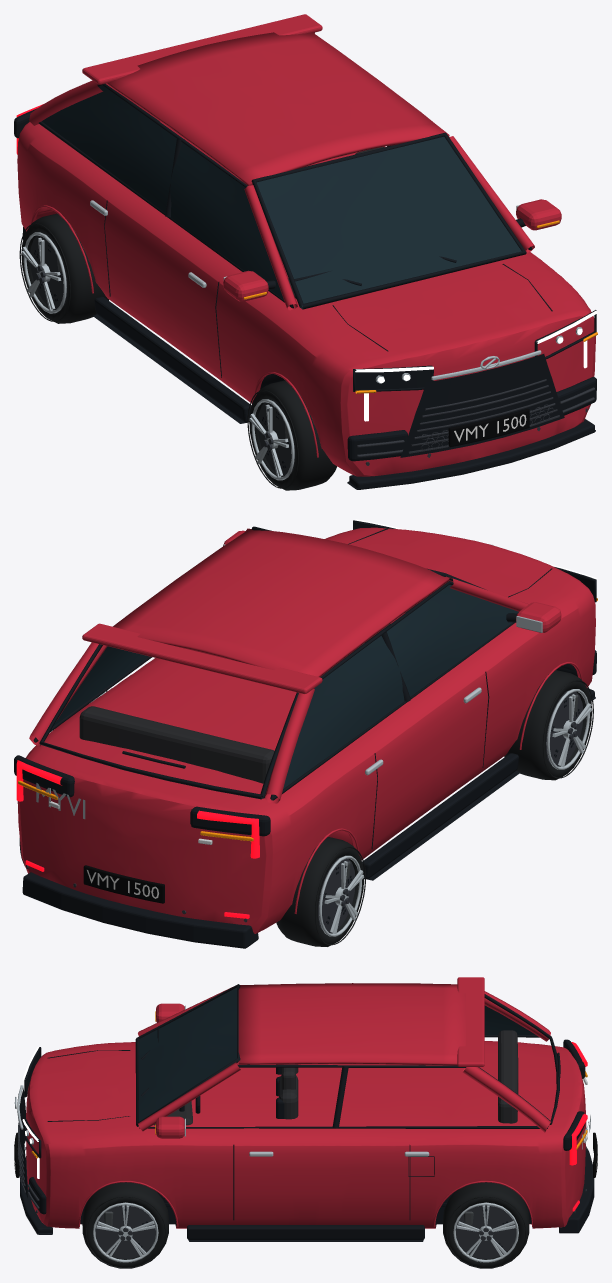
Rendered from myvi.glb.
3 renders of one model, top to bottom at view 1: azimuth 30°, elevation 25°; view 2: azimuth 150°, elevation 25°; view 3: azimuth 270°, elevation 25°, orthographic. The views are drawn at different scales.
Visible parts, largest first — view 1: chassis.001__Automotive clearcoat, chassis.001__Solar glass, chassis.001__Satin black trim, wheel_FL.001__Tyre rubber, wheel_RL.001__Tyre rubber, chassis.001__Graphite alloy, chassis.001__Black registration plate, wheel_RL.001__Machined aluminium, wheel_FL.001__Machined aluminium, wheel_RL.001__Graphite alloy, wheel_FL.001__Graphite alloy, chassis.001__Machined aluminium (+1 smaller); view 2: chassis.001__Automotive clearcoat, chassis.001__Satin black trim, chassis.001__Solar glass, chassis.001__Charcoal upholstery, wheel_RL.001__Tyre rubber, wheel_FL.001__Tyre rubber, chassis.001__Red LED optics, chassis.001__Black registration plate, wheel_FL.001__Machined aluminium, wheel_RL.001__Machined aluminium, wheel_RL.001__Graphite alloy, wheel_FL.001__Graphite alloy (+1 smaller); view 3: chassis.001__Automotive clearcoat, chassis.001__Satin black trim, chassis.001__Solar glass, wheel_FR.001__Tyre rubber, wheel_RR.001__Tyre rubber, chassis.001__Charcoal upholstery, wheel_FR.001__Graphite alloy, wheel_RR.001__Graphite alloy, wheel_FR.001__Machined aluminium, wheel_RR.001__Machined aluminium, chassis.001__Machined aluminium, chassis.001__Red LED optics (+1 smaller).
Part boxes in pixels (<box>): chassis.001__Automotive clearcoat: <box>17,14,595,476</box>; chassis.001__Solar glass: <box>42,86,521,306</box>; chassis.001__Satin black trim: <box>14,83,596,489</box>; wheel_FL.001__Tyre rubber: <box>247,380,336,490</box>; wheel_RL.001__Tyre rubber: <box>19,213,108,323</box>; chassis.001__Graphite alloy: <box>356,379,594,465</box>; chassis.001__Black registration plate: <box>448,408,529,447</box>; wheel_RL.001__Machined aluminium: <box>21,232,66,313</box>; wheel_FL.001__Machined aluminium: <box>249,399,294,480</box>; wheel_RL.001__Graphite alloy: <box>30,234,67,309</box>; wheel_FL.001__Graphite alloy: <box>258,401,295,476</box>; chassis.001__Machined aluminium: <box>90,200,582,383</box>; chassis.001__Automotive clearcoat: <box>17,527,595,933</box>; chassis.001__Satin black trim: <box>14,520,596,948</box>; chassis.001__Solar glass: <box>53,584,518,798</box>; chassis.001__Charcoal upholstery: <box>79,609,409,783</box>; wheel_RL.001__Tyre rubber: <box>276,837,365,946</box>; wheel_FL.001__Tyre rubber: <box>504,670,593,780</box>; chassis.001__Red LED optics: <box>16,760,259,918</box>; chassis.001__Black registration plate: <box>83,865,164,903</box>; wheel_FL.001__Machined aluminium: <box>546,689,591,769</box>; wheel_RL.001__Machined aluminium: <box>319,855,364,936</box>; wheel_RL.001__Graphite alloy: <box>318,857,355,933</box>; wheel_FL.001__Graphite alloy: <box>546,690,582,766</box>; chassis.001__Automotive clearcoat: <box>26,977,586,1228</box>; chassis.001__Satin black trim: <box>19,984,594,1241</box>; chassis.001__Solar glass: <box>138,987,535,1121</box>; wheel_FR.001__Tyre rubber: <box>82,1182,169,1268</box>; wheel_RR.001__Tyre rubber: <box>442,1182,529,1268</box>; chassis.001__Charcoal upholstery: <box>154,1030,518,1125</box>; wheel_FR.001__Graphite alloy: <box>95,1205,155,1258</box>; wheel_RR.001__Graphite alloy: <box>455,1205,516,1258</box>; wheel_FR.001__Machined aluminium: <box>93,1202,158,1262</box>; wheel_RR.001__Machined aluminium: <box>453,1202,518,1262</box>; chassis.001__Machined aluminium: <box>14,1005,590,1156</box>; chassis.001__Red LED optics: <box>569,1042,587,1211</box>.
Bounding box in the file's own units: 2.06 × 1.53 × 4.05.
